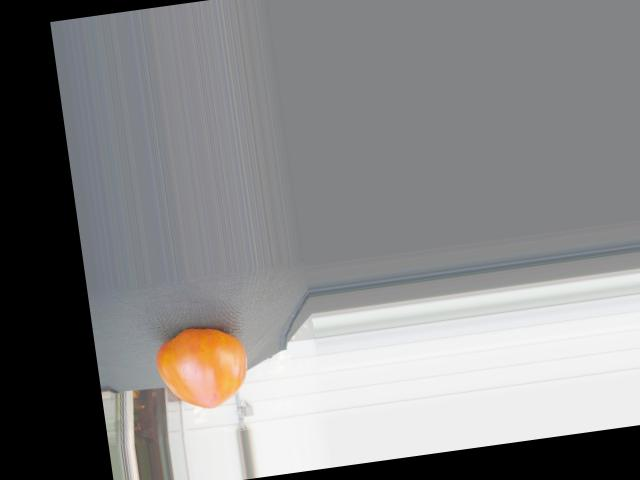tomato: (152, 322, 253, 415)
